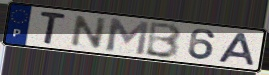6: (188, 28, 216, 61)
A: (216, 32, 257, 67)
B: (143, 21, 184, 60)
M: (105, 16, 152, 57)
N: (68, 14, 110, 50)
T: (38, 10, 68, 46)
